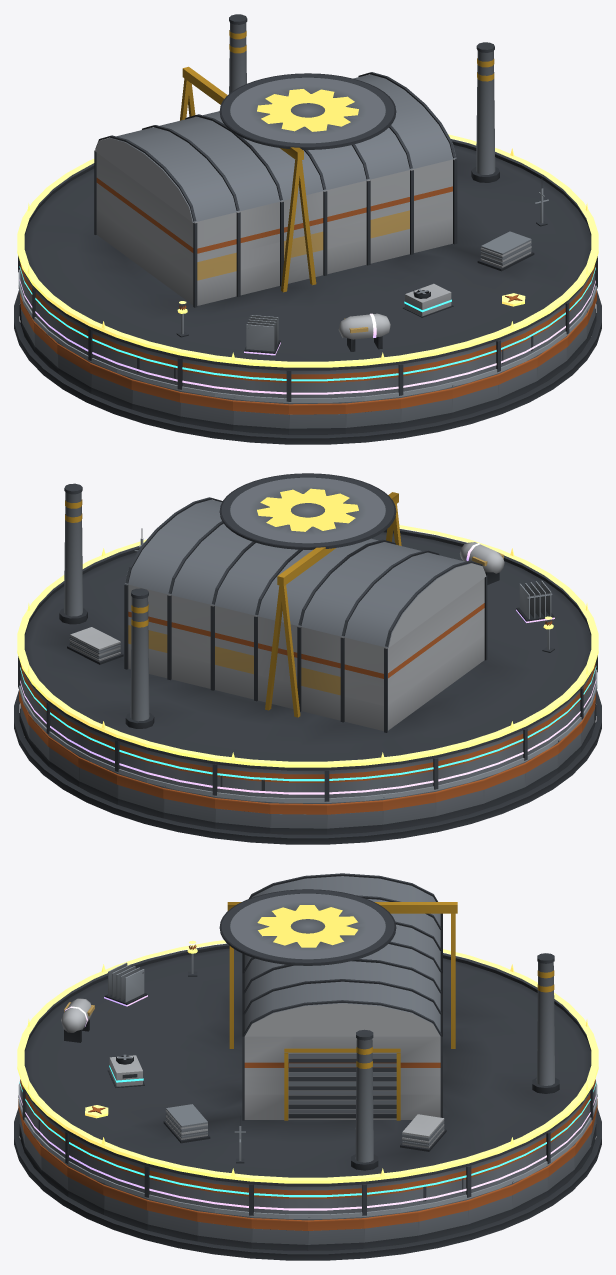
The model's file is fabricator_l_far.glb.
The picture shows the model from 3 angles, top to bottom: view 1: azimuth 30°, elevation 25°; view 2: azimuth 150°, elevation 25°; view 3: azimuth 270°, elevation 25°; orthographic projection.
Parts seen in each view (by area): view 1: Roof, Base, L5, L4, L2, L3; view 2: Roof, Base, L5, L4, L2, L3; view 3: Roof, Base, L5, L4, L2, L3.
Boxes of the visible parts, x1,y1,x2,y2 form: Roof: (18,14,597,401); Base: (14,290,601,444); L5: (17,134,598,367); L4: (19,279,595,394); L2: (18,178,597,402); L3: (19,266,595,381); Roof: (18,473,597,801); Base: (14,690,601,844); L5: (17,525,598,767); L4: (20,542,596,794); L2: (18,528,597,802); L3: (20,666,596,781); Roof: (20,873,595,1215); Base: (14,1094,601,1260); L5: (17,940,598,1183); L4: (19,962,596,1210); L2: (18,1080,597,1218); L3: (19,1054,596,1197).
Size of the model in its own units: 20.76 by 8.18 by 20.76.
